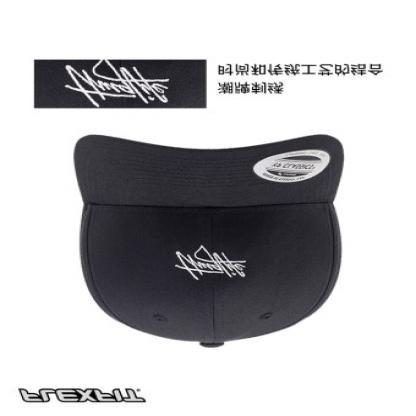cap: (66, 120, 352, 356)
